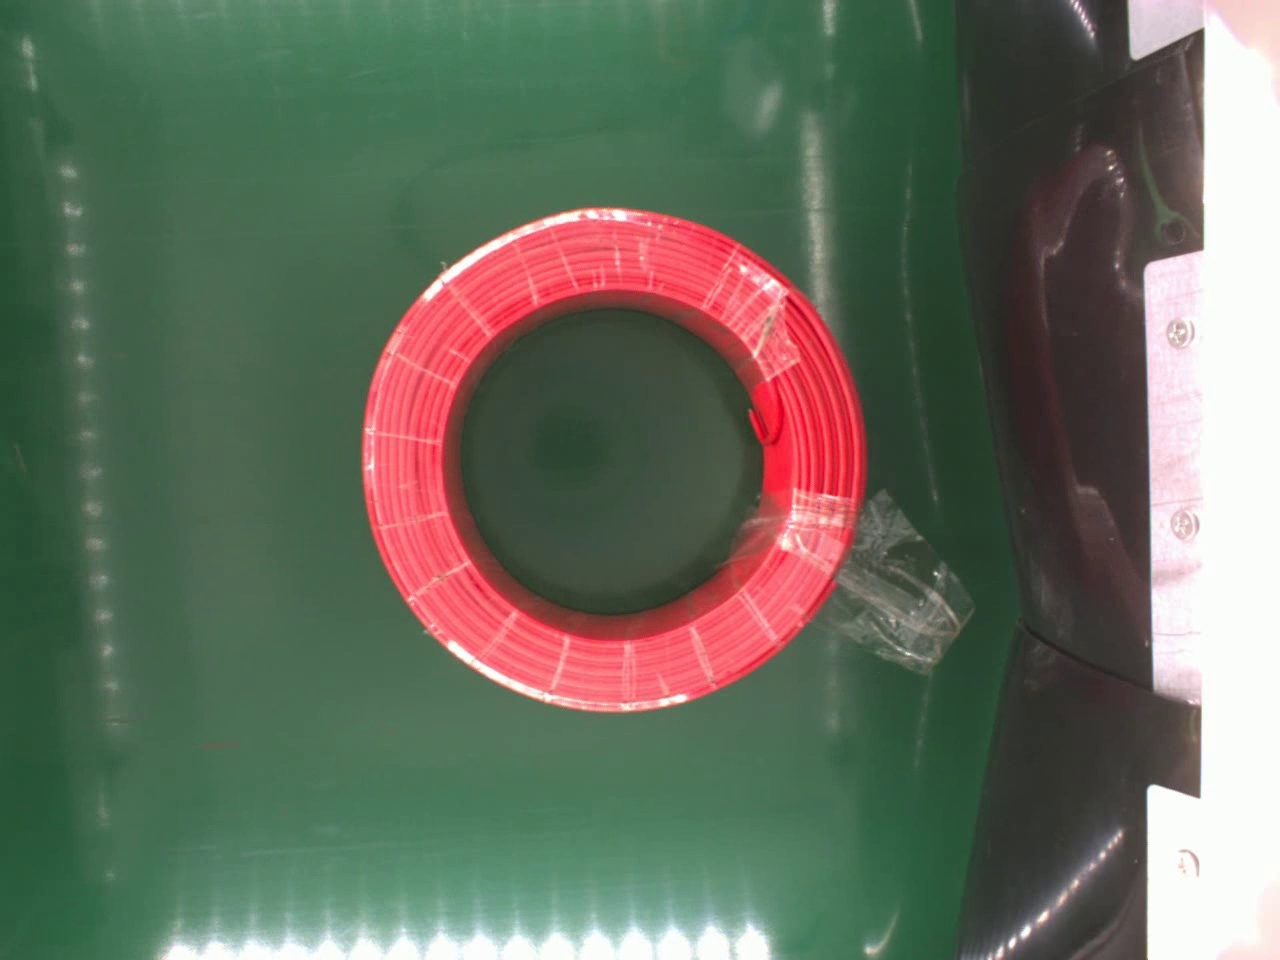red: (352, 201, 873, 720)
